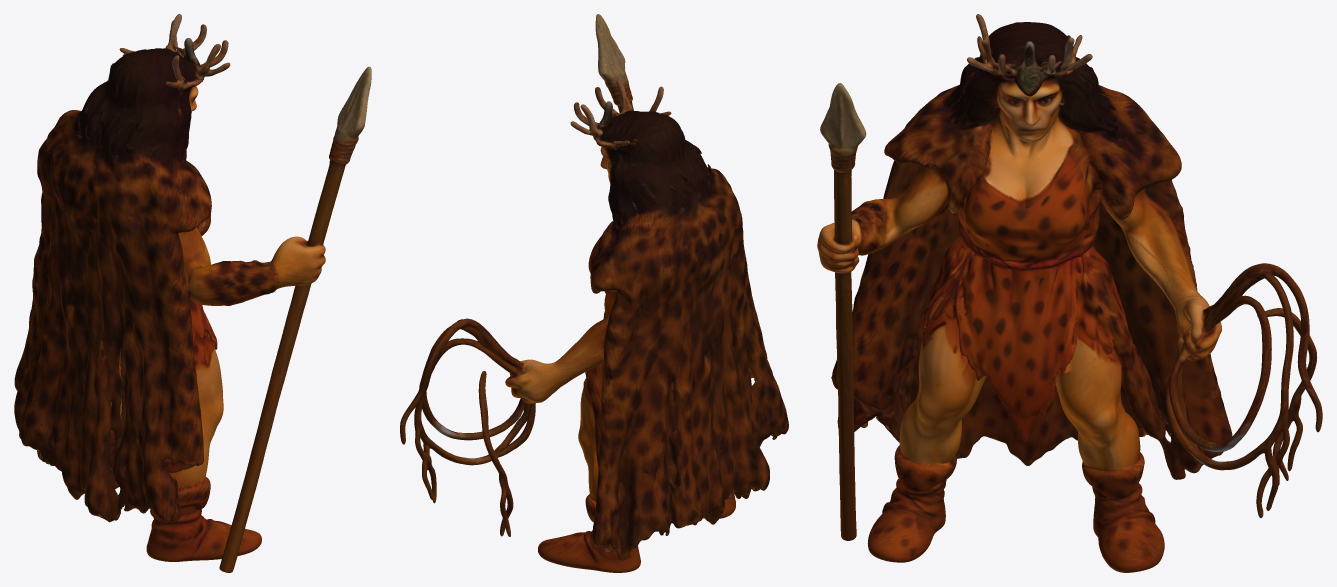
3 renders of one model, left to right at view 1: azimuth 30°, elevation 25°; view 2: azimuth 150°, elevation 25°; view 3: azimuth 270°, elevation 25°, orthographic. The views are drawn at different scales.
Visible parts, largest first — view 1: tripo_node_1ae45196-17c3-4e54-a932-aebe15882441; view 2: tripo_node_1ae45196-17c3-4e54-a932-aebe15882441; view 3: tripo_node_1ae45196-17c3-4e54-a932-aebe15882441.
Part boxes in pixels (x1,y1,x2,y2): tripo_node_1ae45196-17c3-4e54-a932-aebe15882441: (14,14,371,572); tripo_node_1ae45196-17c3-4e54-a932-aebe15882441: (400,14,788,572); tripo_node_1ae45196-17c3-4e54-a932-aebe15882441: (817,14,1322,572).
Bounding box in the file's own units: 0.5329 × 1 × 0.8596.
Materials: 1 (1 with a texture image).
